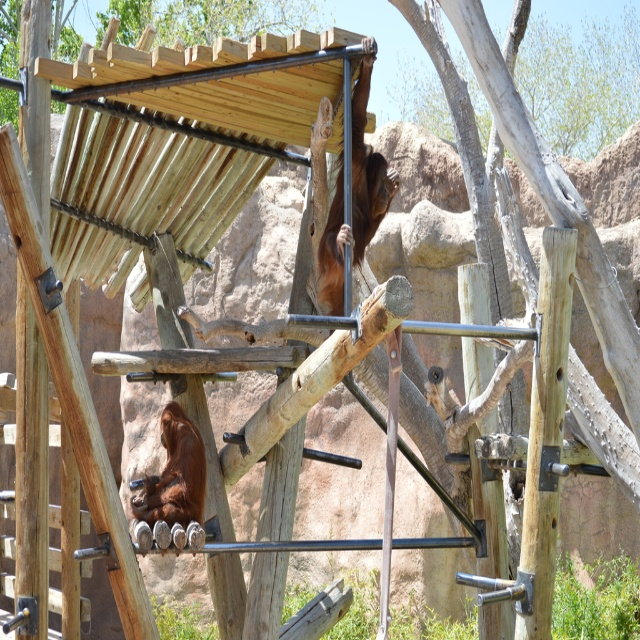Monkey: (114, 396, 220, 541)
